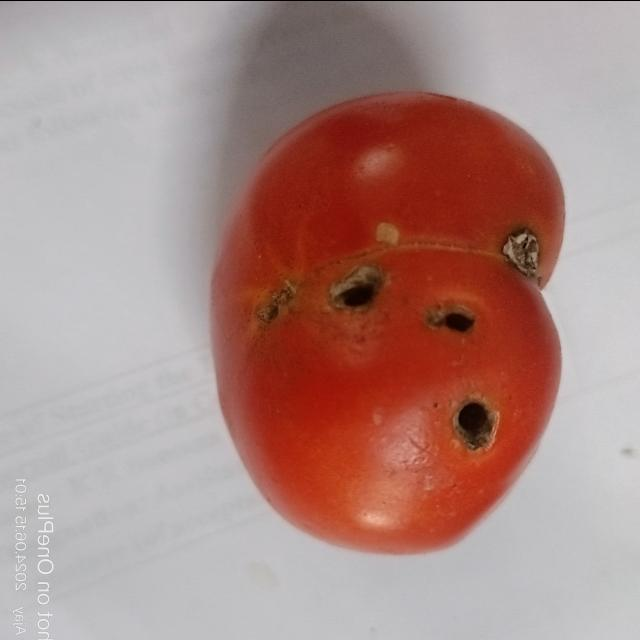fruitworm_bore: (329, 262, 387, 315), (452, 391, 496, 456), (419, 302, 485, 338)
